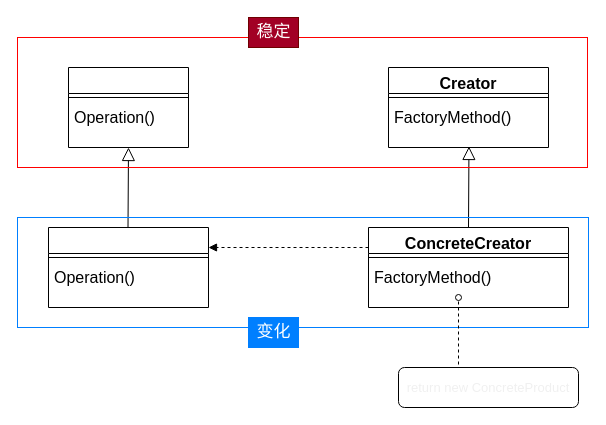
The diagram is 606 pixels wide and 425 high, and some of its shapes have lost their labels. The shapes that lost their labels are listed below. From the top down, each one's box as (x1, y1, x2, y2) in pixels, then its label:
(68, 66, 188, 148): Product
(48, 226, 208, 308): ConcreteProduct
